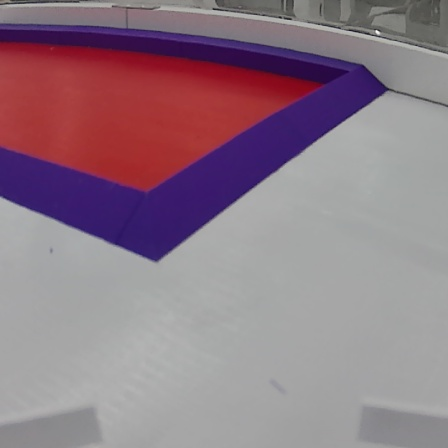red_aim: (1, 21, 386, 263)
